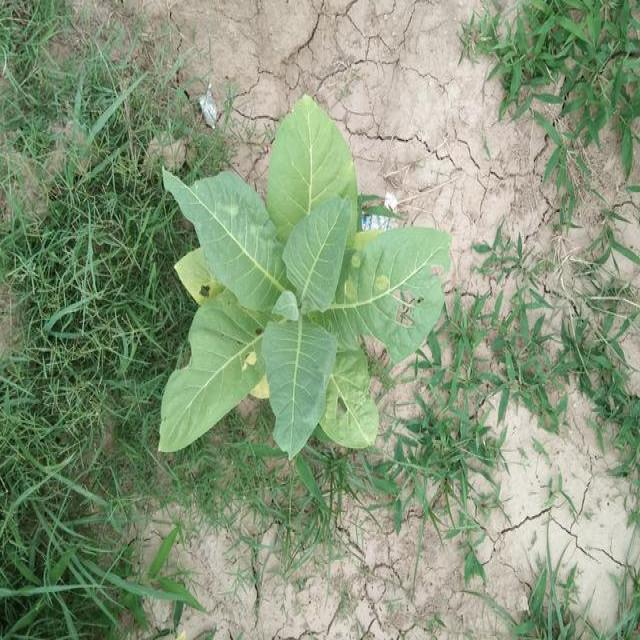crop: (160, 91, 449, 463)
